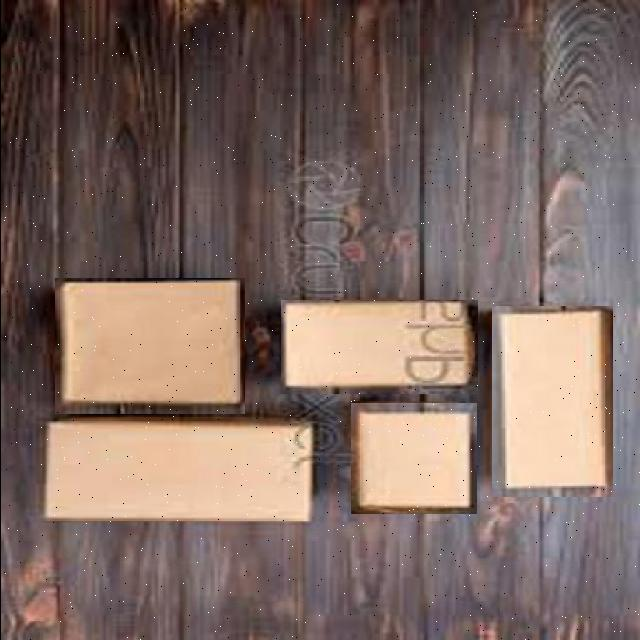normal: (37, 418, 315, 524), (54, 278, 244, 414), (491, 306, 612, 497), (280, 300, 477, 394), (350, 403, 476, 514)
